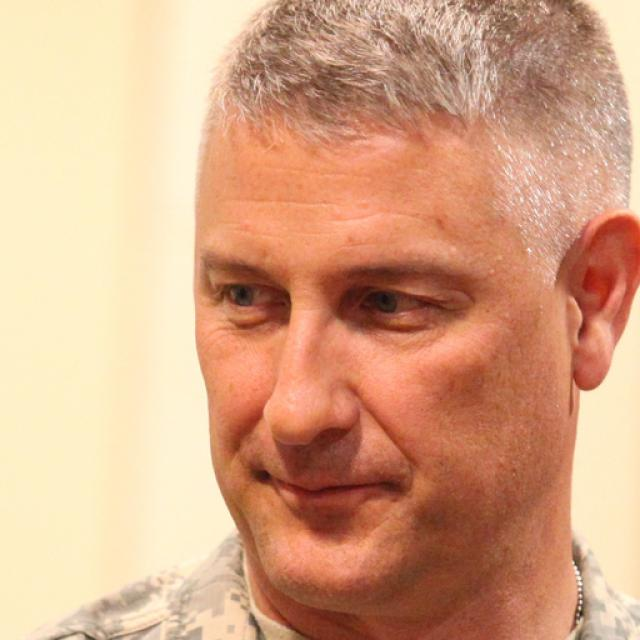Wrinkle: (226, 183, 352, 214), (261, 150, 366, 181), (317, 205, 419, 230)
